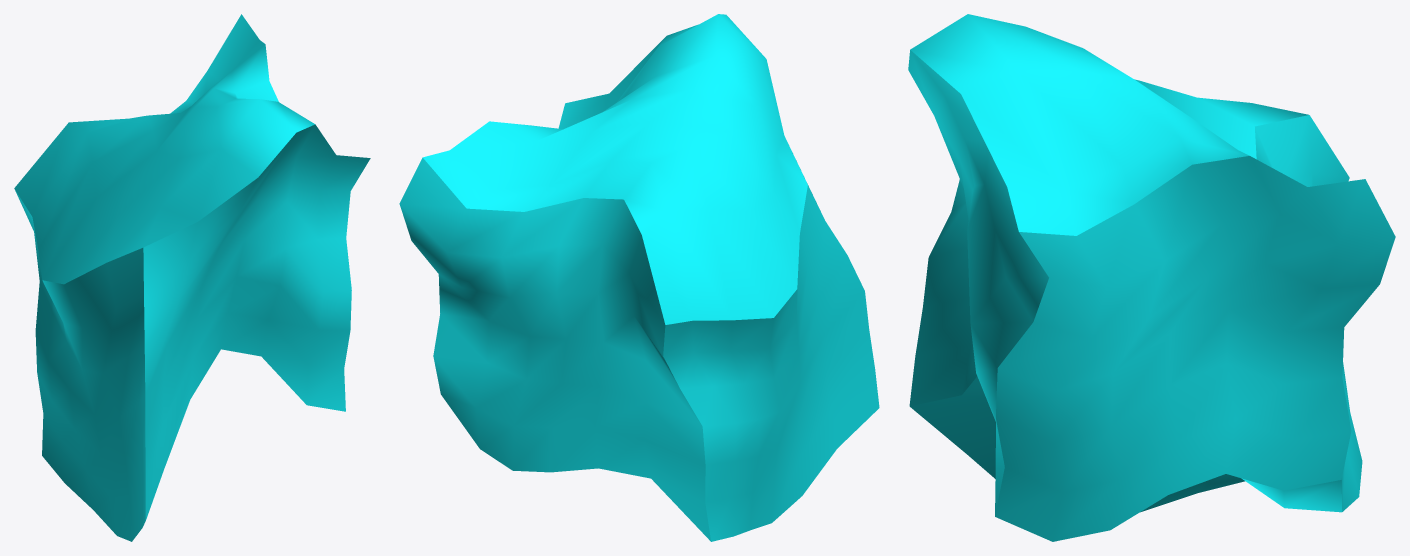
File: Mapa03_CrystalTiroB.FBX
The picture shows the model from 3 angles, left to right: view 1: azimuth 30°, elevation 25°; view 2: azimuth 150°, elevation 25°; view 3: azimuth 270°, elevation 25°; orthographic projection. The views are drawn at different scales.
Parts seen in each view (by area): view 1: CrystalTiroB_Mapa03; view 2: CrystalTiroB_Mapa03; view 3: CrystalTiroB_Mapa03.
Boxes of the visible parts, bbox=[...] form: CrystalTiroB_Mapa03: bbox=[14, 14, 370, 541]; CrystalTiroB_Mapa03: bbox=[399, 14, 879, 541]; CrystalTiroB_Mapa03: bbox=[908, 14, 1395, 541].
Size of the model in its own units: 9.06 by 13.56 by 10.46.
